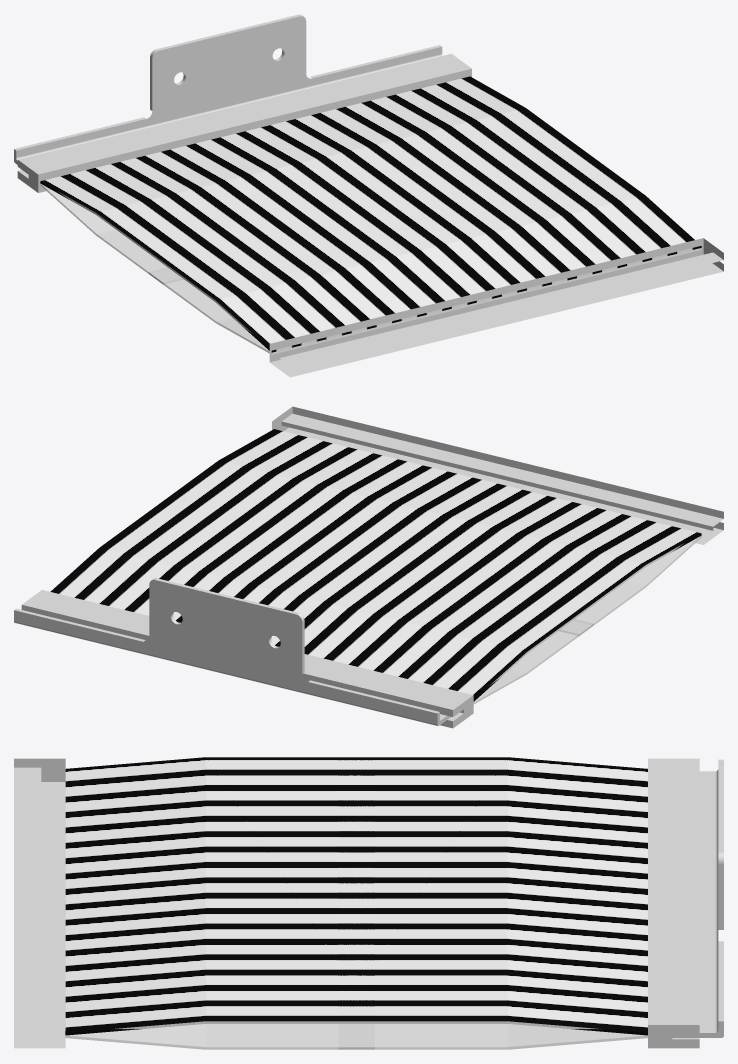
Rendered from EZR_ROOF-BRSH-L220.glb.
3 renders of one model, top to bottom at view 1: azimuth 30°, elevation 25°; view 2: azimuth 150°, elevation 25°; view 3: azimuth 270°, elevation 25°, orthographic. The views are drawn at different scales.
Visible parts, largest first — view 1: Geom3D_ (×4), Geom3D_EZR_BRSH-220 (×2), Geom3D_EZR_CVR-PLT-BRSH-TOPBOT-W220-GY; view 2: Geom3D_ (×4), Geom3D_EZR_BRSH-220 (×2), Geom3D_EZR_CVR-PLT-BRSH-TOPBOT-W220-GY; view 3: Geom3D_ (×4), Geom3D_EZR_BRSH-220 (×2), Geom3D_EZR_CVR-PLT-BRSH-TOPBOT-W220-GY.
Boxes of the visible parts, box(x1,y1,x2,y2) form: Geom3D_ (×4): box(40, 76, 701, 354); Geom3D_EZR_BRSH-220 (×2): box(17, 53, 723, 377); Geom3D_EZR_CVR-PLT-BRSH-TOPBOT-W220-GY: box(14, 14, 442, 164); Geom3D_ (×4): box(50, 429, 701, 704); Geom3D_EZR_BRSH-220 (×2): box(21, 406, 723, 728); Geom3D_EZR_CVR-PLT-BRSH-TOPBOT-W220-GY: box(14, 578, 450, 726); Geom3D_ (×4): box(65, 757, 647, 1049); Geom3D_EZR_BRSH-220 (×2): box(14, 758, 699, 1048); Geom3D_EZR_CVR-PLT-BRSH-TOPBOT-W220-GY: box(672, 759, 723, 1037).
Bounding box in the file's own units: 0.22 × 0.0425 × 0.2477.
2 materials, 1 textured.
